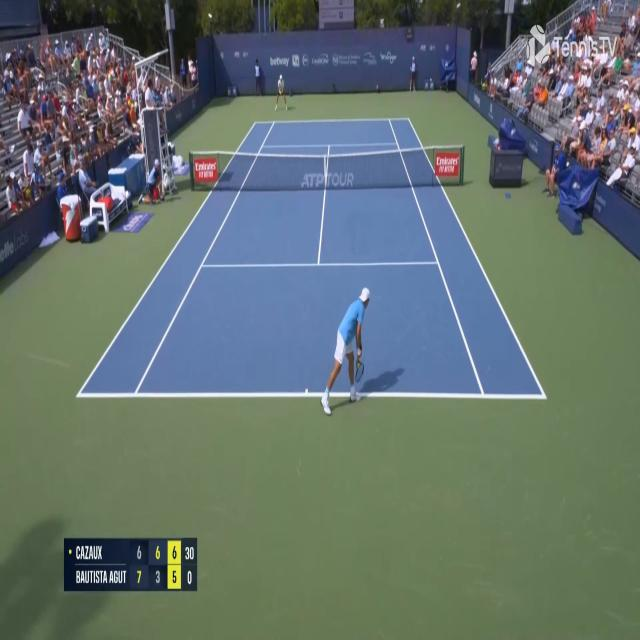tennis-player: (319, 280, 371, 417), (274, 74, 288, 112)
